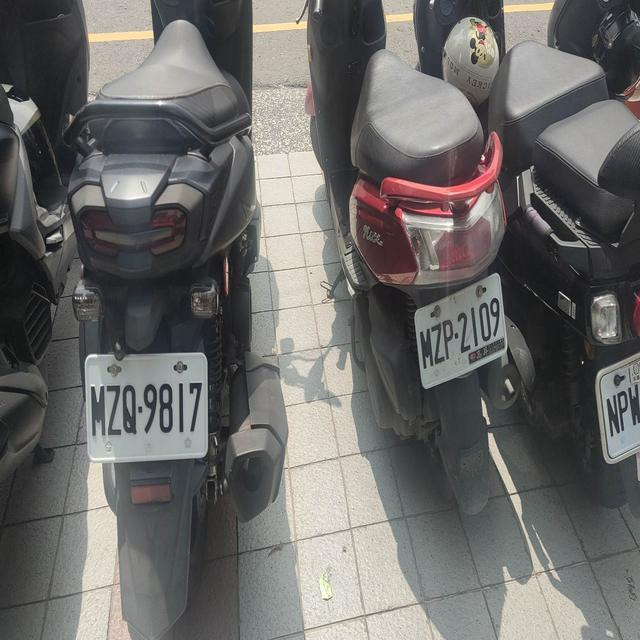plate: (83, 374, 208, 442), (413, 289, 504, 370)
